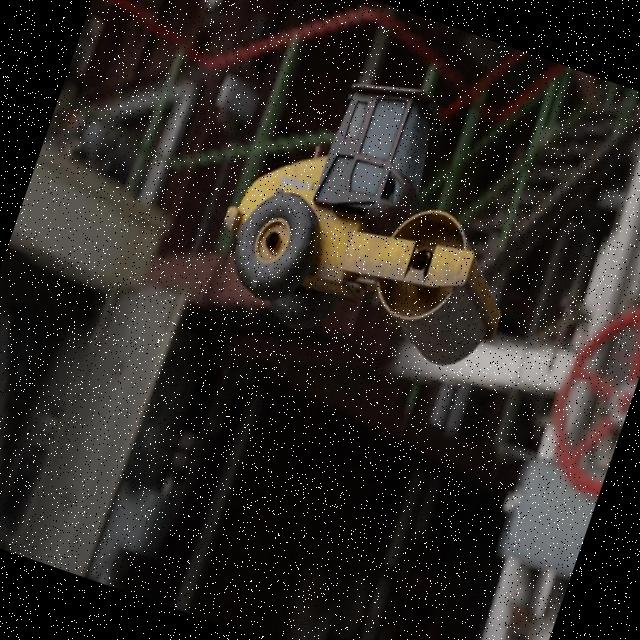Roller: (196, 41, 562, 392)
